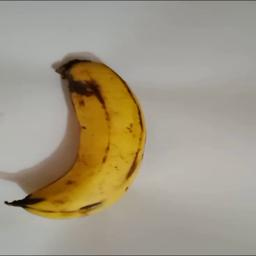Banana Unripe: (25, 50, 149, 223)
